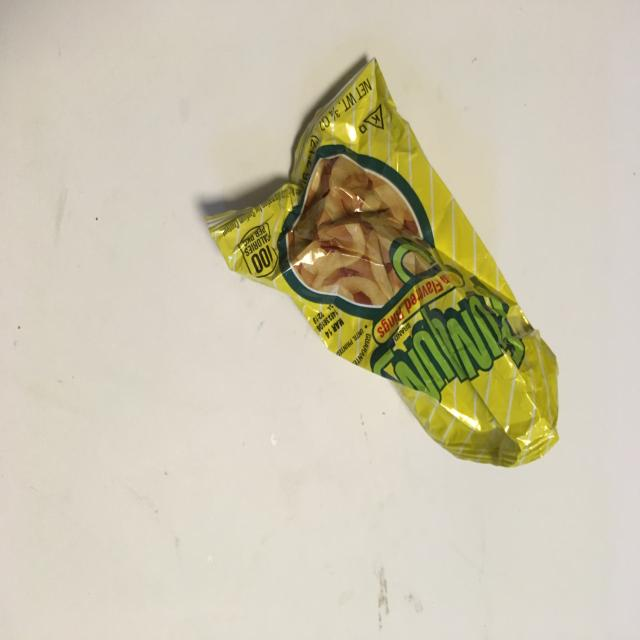trash: (204, 57, 560, 468)
